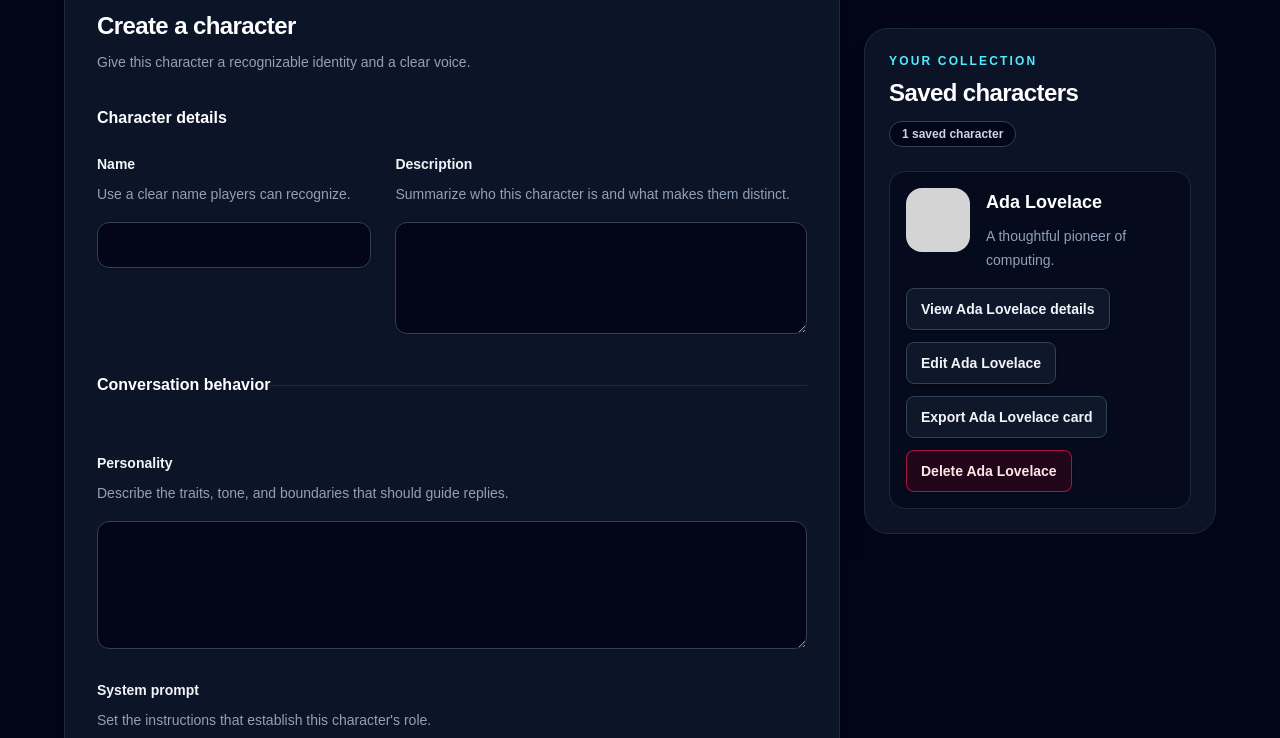
Test: CharacterManagementScreen › deletes a saved character after explicit confirmation
The width and height of the screenshot is (1280, 738).
(page scrolled)
Expected: the heading "Ada Lovelace" is shown, [986,192,1102,212]
Click the button "Delete Ada Lovelace".
click(989, 471)  # box [906,450,1072,492]
(page scrolled)
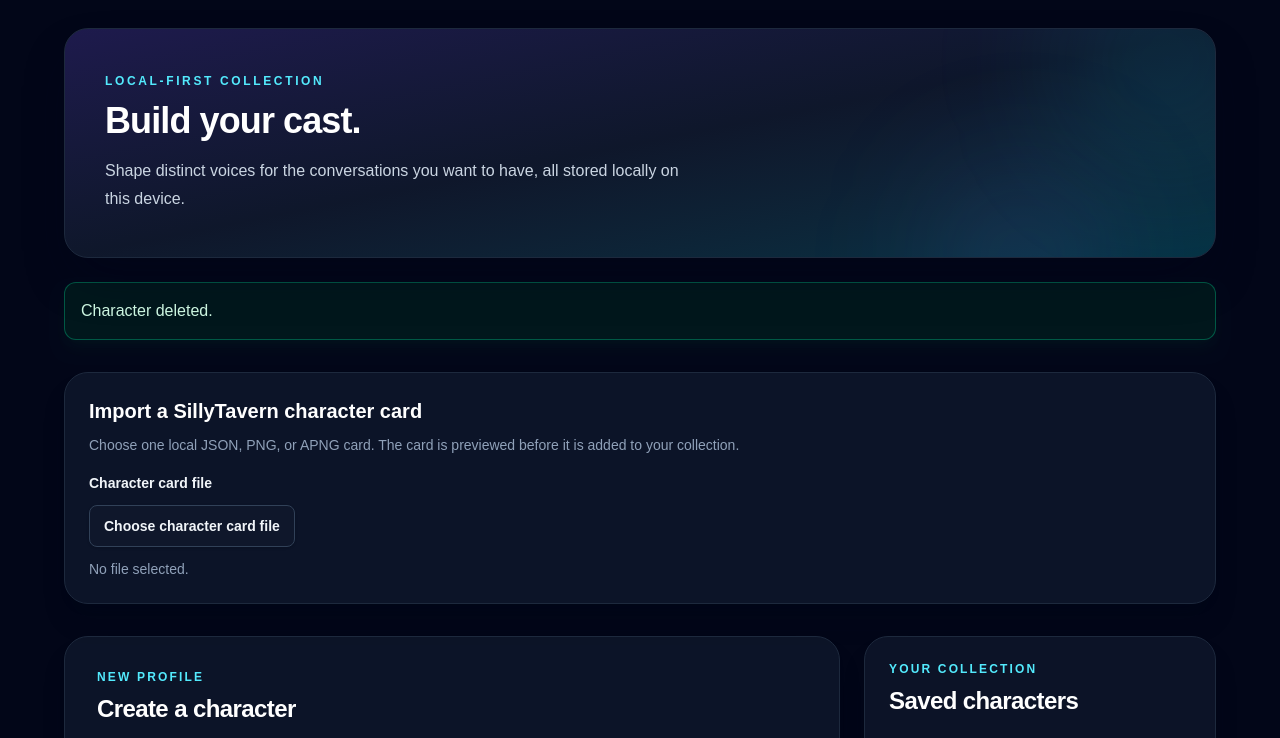
Now the message reads "Character deleted.", box [81,302,213,319]
Now the heading "Ada Lovelace" is gone
